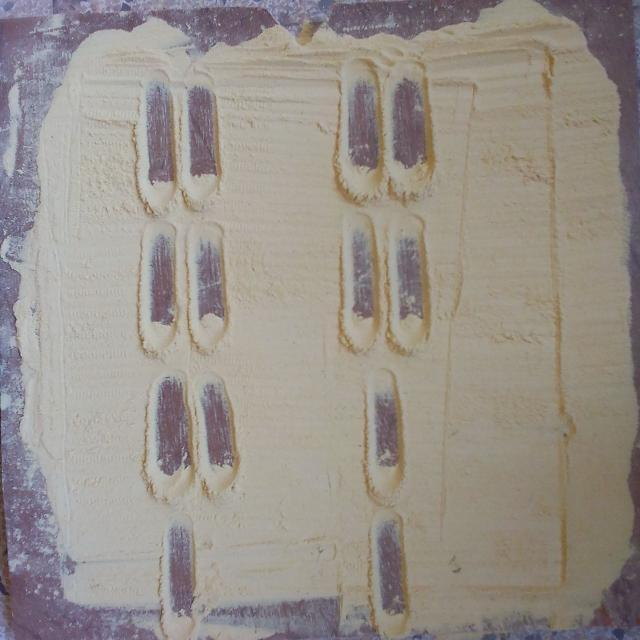double: (340, 64, 440, 172), (334, 220, 434, 326), (138, 73, 229, 185), (143, 369, 239, 474), (136, 225, 228, 326)
single: (360, 363, 410, 476), (160, 504, 200, 616), (372, 509, 412, 619)
